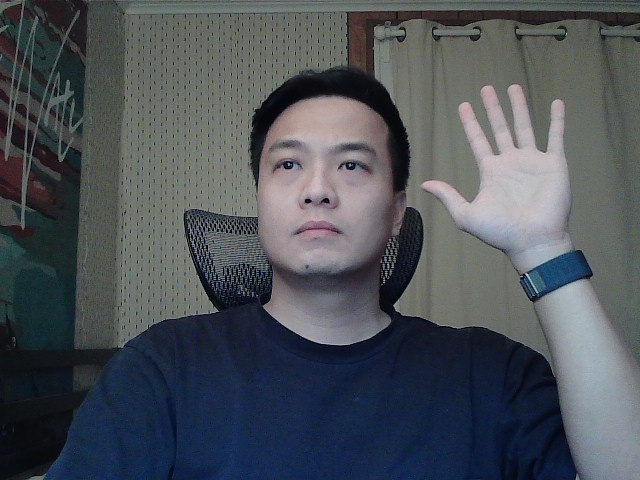Hello: (415, 73, 586, 276)
